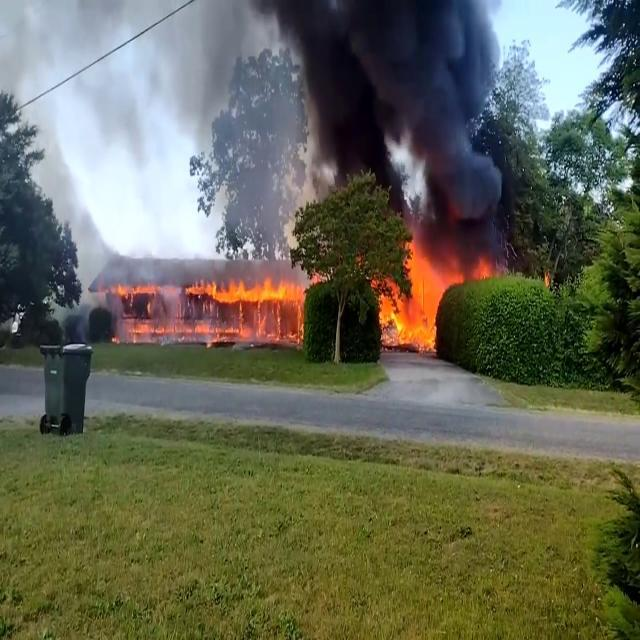Fire: (374, 240, 500, 350), (200, 274, 309, 318)
Smoke: (1, 0, 295, 252), (284, 0, 516, 242)
